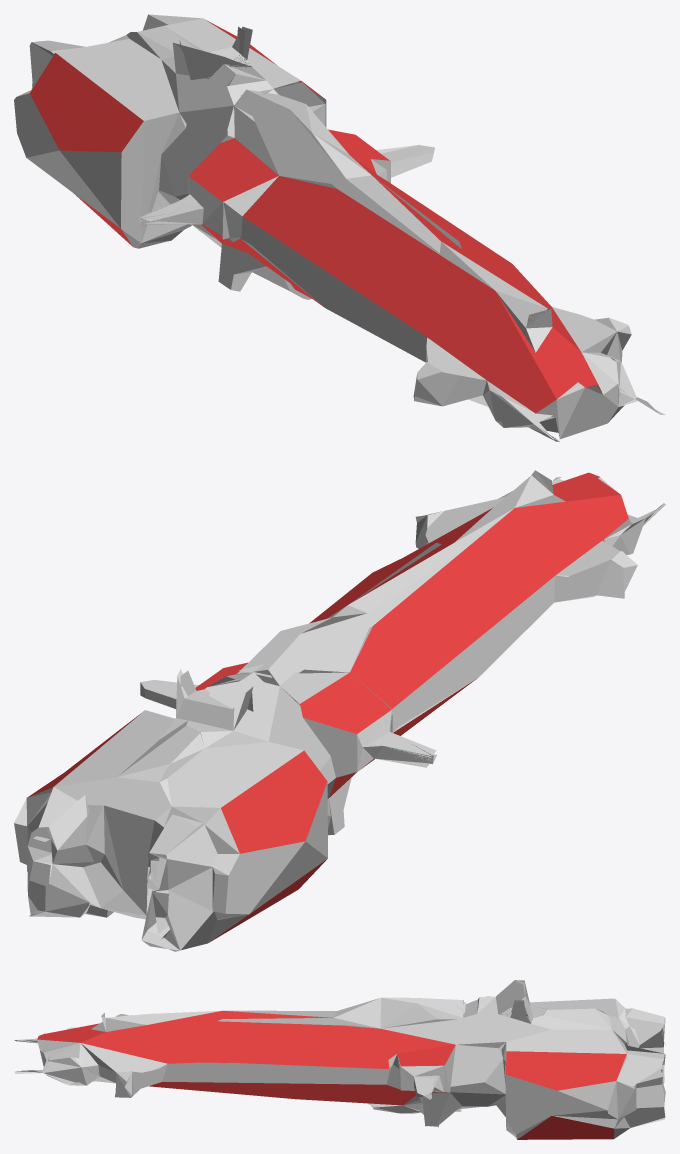
Rendered from SetReachBombardT2.glb.
3 renders of one model, top to bottom at view 1: azimuth 30°, elevation 25°; view 2: azimuth 150°, elevation 25°; view 3: azimuth 270°, elevation 25°, orthographic. The views are drawn at different scales.
Parts seen in each view (by area): view 1: Spaceship; view 2: Spaceship; view 3: Spaceship.
Part boxes in pixels (x1,y1,x2,y2): Spaceship: [14, 14, 665, 441]; Spaceship: [14, 470, 665, 951]; Spaceship: [14, 980, 665, 1139].
Bounding box in the file's own units: 79.26 × 49.85 × 239.
